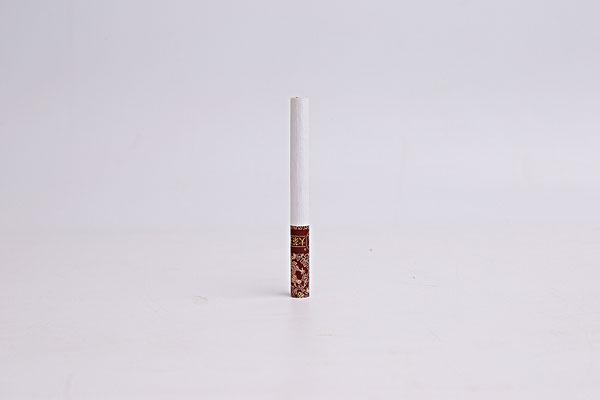smoke: (288, 93, 312, 300)
